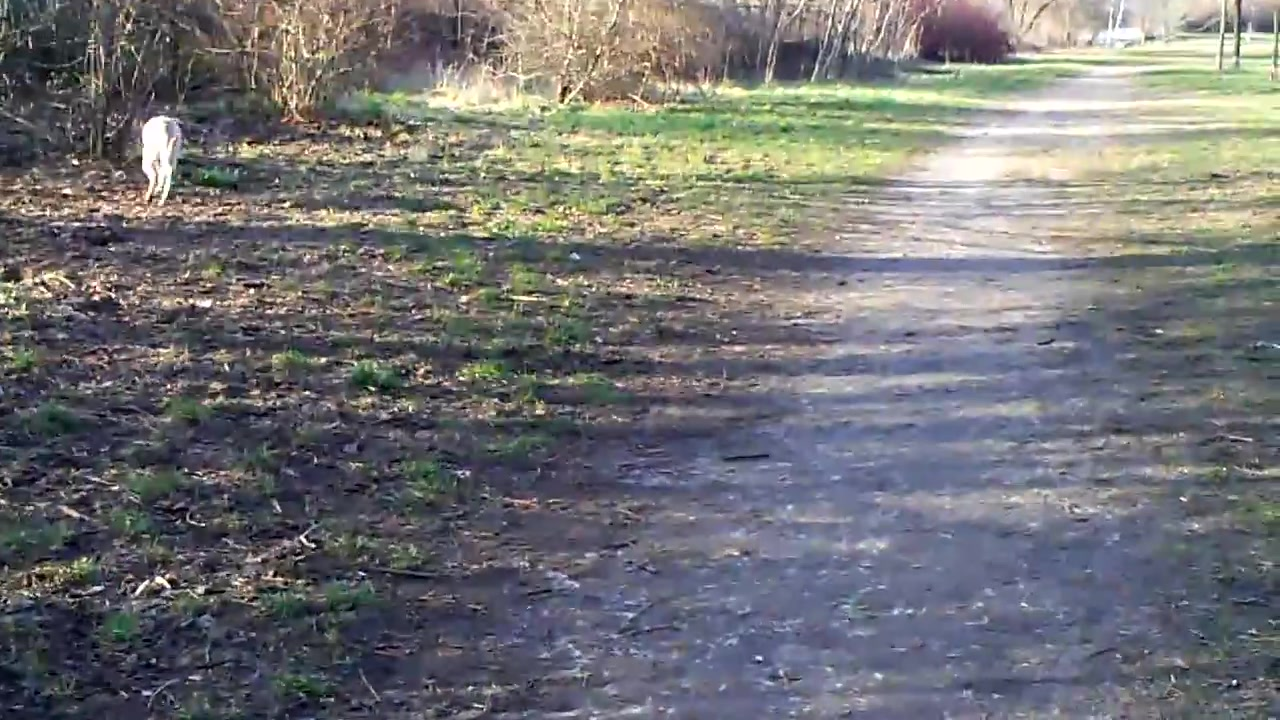dog: (138, 114, 185, 210)
